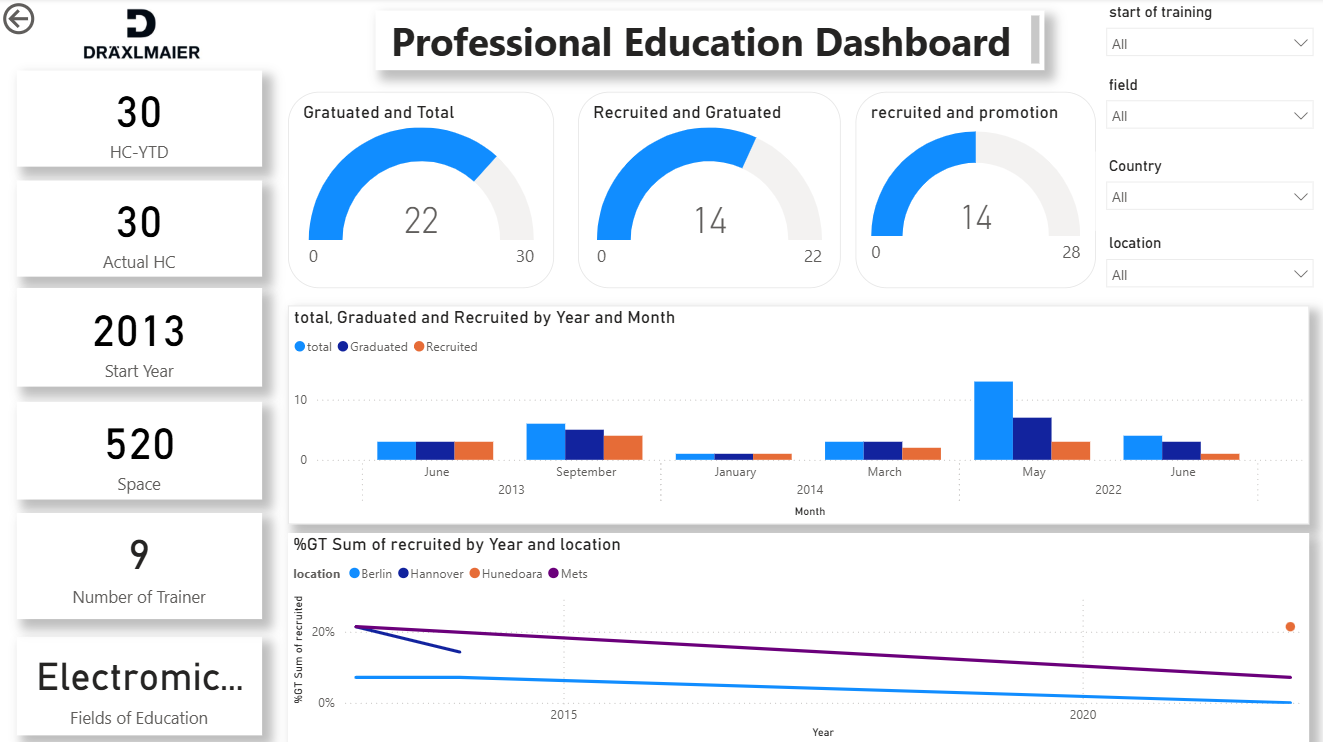

The page's visual inventory and layout, read from the dashboard file:
{"tool":"powerbi","page":{"name":"Final Proposition","canvas":[1280,720],"ordinal":0},"visuals":[{"type":"image","box":[27.7,0,217.2,70],"z":0},{"type":"card","fields":{"Values":["Feuil1.Total_Headcount"]},"box":[18.1,70,236.5,92.9],"z":1000},{"type":"card","fields":{"Values":["Feuil1.Actual_Headcount"]},"box":[18.1,176.1,236.5,92.9],"z":2000},{"type":"card","fields":{"Values":["Feuil1.Start Year"]},"box":[18.1,279.9,236.5,95.3],"z":3000},{"type":"card","fields":{"Values":["Sum(Feuil2.space)"]},"box":[18.1,389.7,236.5,94.1],"z":4000},{"type":"slicer","fields":{"Values":["Feuil1.start of training"]},"box":[1059.3,0,220.8,76],"z":5000},{"type":"slicer","fields":{"Values":["Feuil1.field"]},"box":[1059.3,70,220.8,78.4],"z":6000},{"type":"slicer","fields":{"Values":["Feuil1.location"]},"box":[1059.3,223.2,220.8,79.6],"z":7000},{"type":"gauge","fields":{"Y":["Sum(Feuil1.gratuated)"],"MaxValue":["CountNonNull(Feuil1.gratuated)"]},"box":[279.9,90.5,257,189.4],"z":8000},{"type":"gauge","fields":{"Y":["Sum(Feuil1.recruited)"],"MaxValue":["Sum(Feuil1.gratuated)"]},"box":[559.8,90.5,253.4,189.4],"z":9000},{"type":"gauge","fields":{"Y":["CountNonNull(Feuil1.promotion)"]},"box":[827.6,90.5,231.6,189.4],"z":10000},{"type":"actionButton","box":[0,0,100,40],"z":11000},{"type":"cardVisual","fields":{"Data":["Feuil1.Fields_of_Education"]},"box":[18.1,616.5,236.5,95.3],"z":12000},{"type":"slicer","fields":{"Values":["Feuil1.Country"]},"box":[1059.3,148.4,220.8,76],"z":13000},{"type":"textbox","box":[364.3,12.1,645.4,57.9],"z":14000},{"type":"clusteredColumnChart","fields":{"Category":["Feuil1.start of training.Variation.Date Hierarchy.Year","Feuil1.start of training.Variation.Date Hierarchy.Month"],"Y":["CountNonNull(Feuil1.gratuated)","Sum(Feuil1.gratuated)","Sum(Feuil1.recruited)"]},"box":[279.9,296.8,985.7,211.1],"z":15000},{"type":"lineChart","fields":{"Category":["Feuil1.start of training.Variation.Date Hierarchy.Year"],"Y":["Divide(Sum(Feuil1.recruited), ScopedEval(Sum(Feuil1.recruited), []))"],"Series":["Feuil1.location"]},"box":[279.9,516.4,985.7,203.9],"z":16000},{"type":"cardVisual","fields":{"Data":["Sum(Feuil2.number of trainers)"]},"box":[18.1,497.1,236.5,102.5],"z":17000}]}

Visuals, with their boxes in screenshot pixels (x1, y1, x2, y2), scaled from the page's 1280x720 canvas onto the 1323x742 screenshot:
image: detection(29, 0, 253, 72)
card - Feuil1.Total_Headcount: detection(19, 72, 263, 168)
card - Feuil1.Actual_Headcount: detection(19, 181, 263, 277)
card - Feuil1.Start Year: detection(19, 288, 263, 387)
card - Sum(Feuil2.space): detection(19, 402, 263, 499)
slicer - Feuil1.start of training: detection(1095, 0, 1322, 78)
slicer - Feuil1.field: detection(1095, 72, 1322, 153)
slicer - Feuil1.location: detection(1095, 230, 1322, 312)
gauge - Sum(Feuil1.gratuated) x CountNonNull(Feuil1.gratuated): detection(289, 93, 555, 288)
gauge - Sum(Feuil1.recruited) x Sum(Feuil1.gratuated): detection(579, 93, 841, 288)
gauge - CountNonNull(Feuil1.promotion): detection(855, 93, 1095, 288)
actionButton: detection(0, 0, 103, 41)
cardVisual - Feuil1.Fields_of_Education: detection(19, 635, 263, 734)
slicer - Feuil1.Country: detection(1095, 153, 1322, 231)
textbox: detection(377, 12, 1044, 72)
clusteredColumnChart - Feuil1.start of training.Variation.Date Hierarchy.Year x Feuil1.start of training.Variation.Date Hierarchy.Month: detection(289, 306, 1308, 523)
lineChart - Feuil1.start of training.Variation.Date Hierarchy.Year x Divide(Sum(Feuil1.recruited), ScopedEval(Sum(Feuil1.recruited), [])): detection(289, 532, 1308, 741)
cardVisual - Sum(Feuil2.number of trainers): detection(19, 512, 263, 618)
